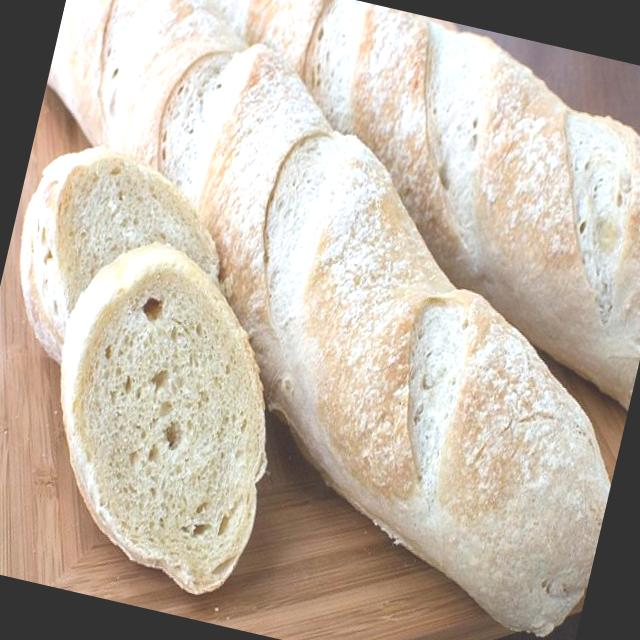Bread: (0, 0, 640, 615)
